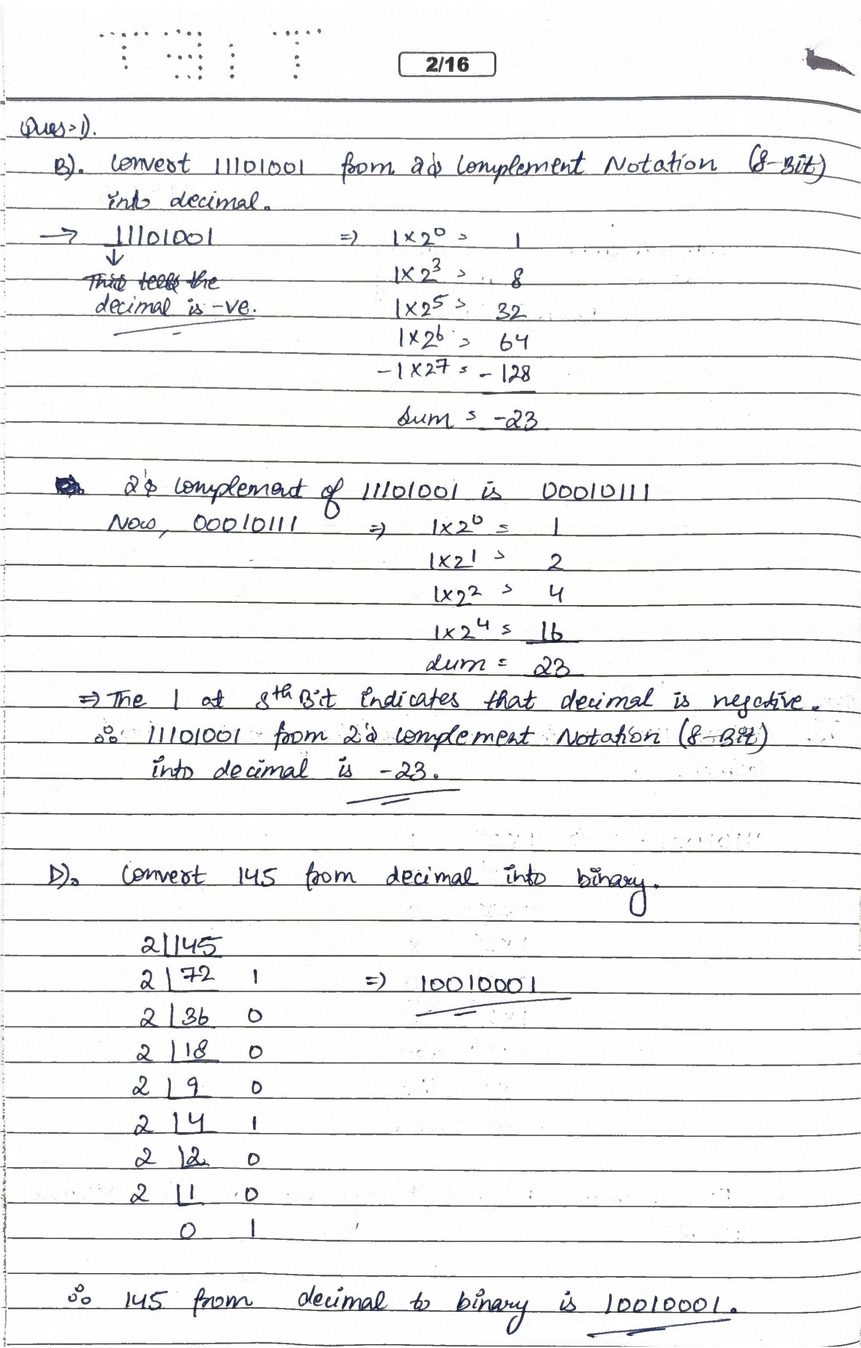cuttings: (54, 474, 87, 495)
